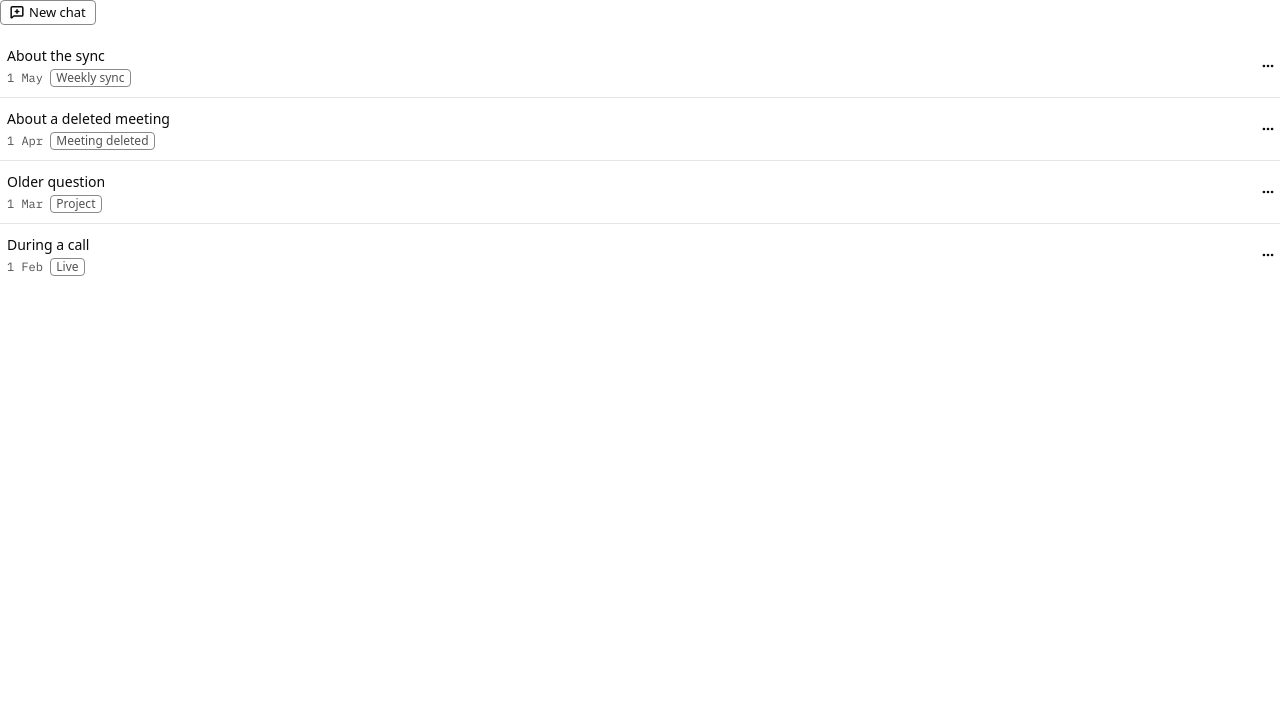
Test: ChatThreadList › says so when a chat could not be deleted, and keeps it listed
Click the button named "Actions for During a call" at coordinates (1268, 255), box [1256,243,1279,267]
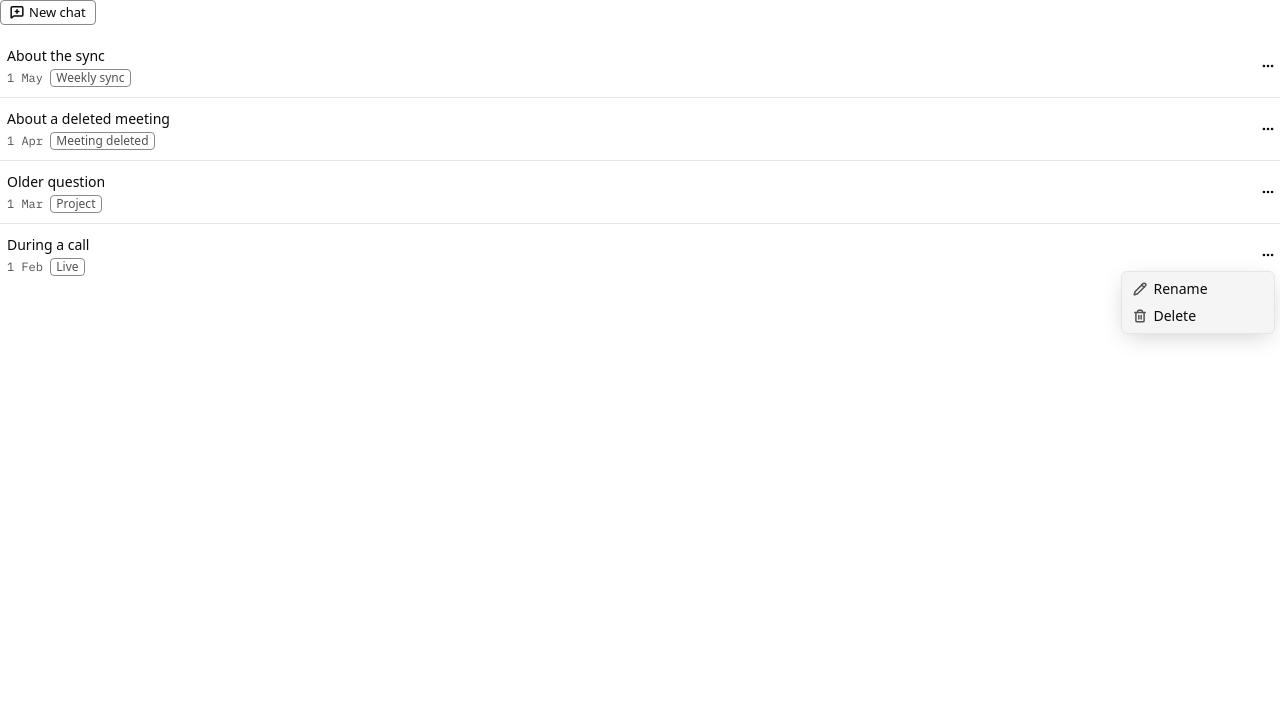
Click the menu item "Delete" at coordinates (1164, 316), box [1132,306,1196,325]
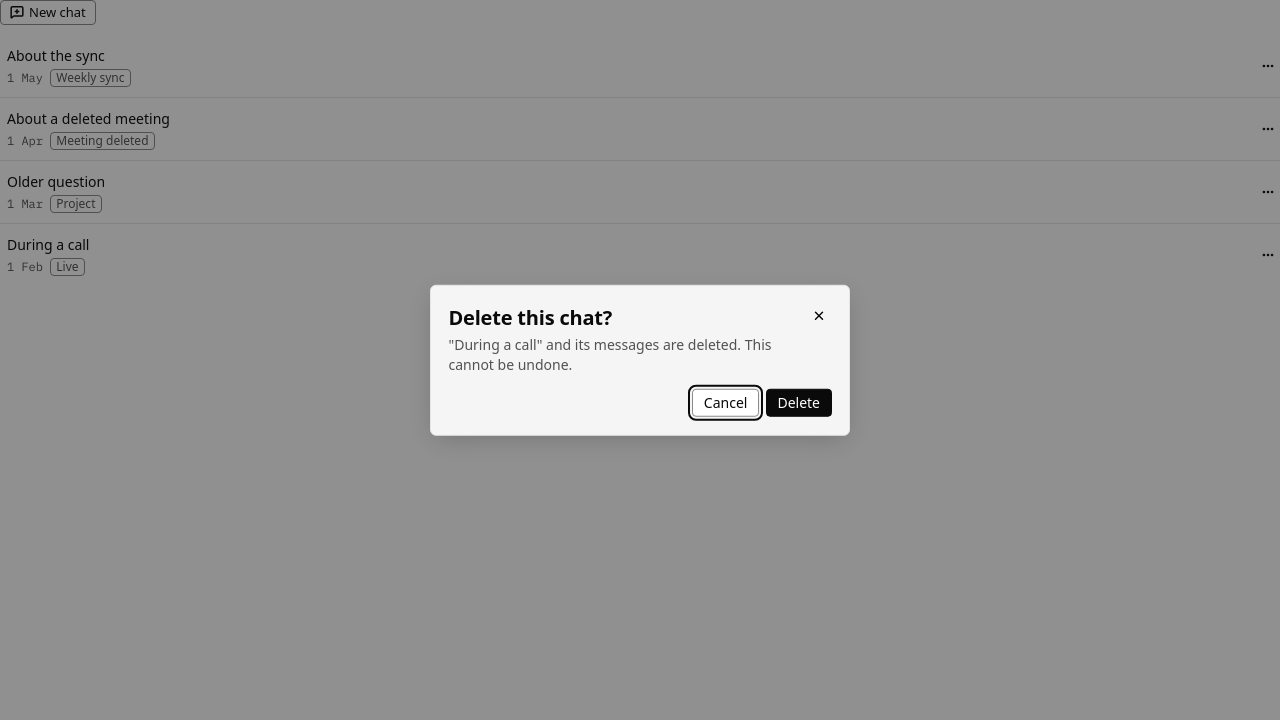
Click the button "Delete" at coordinates (799, 403), box [766,389,832,417]
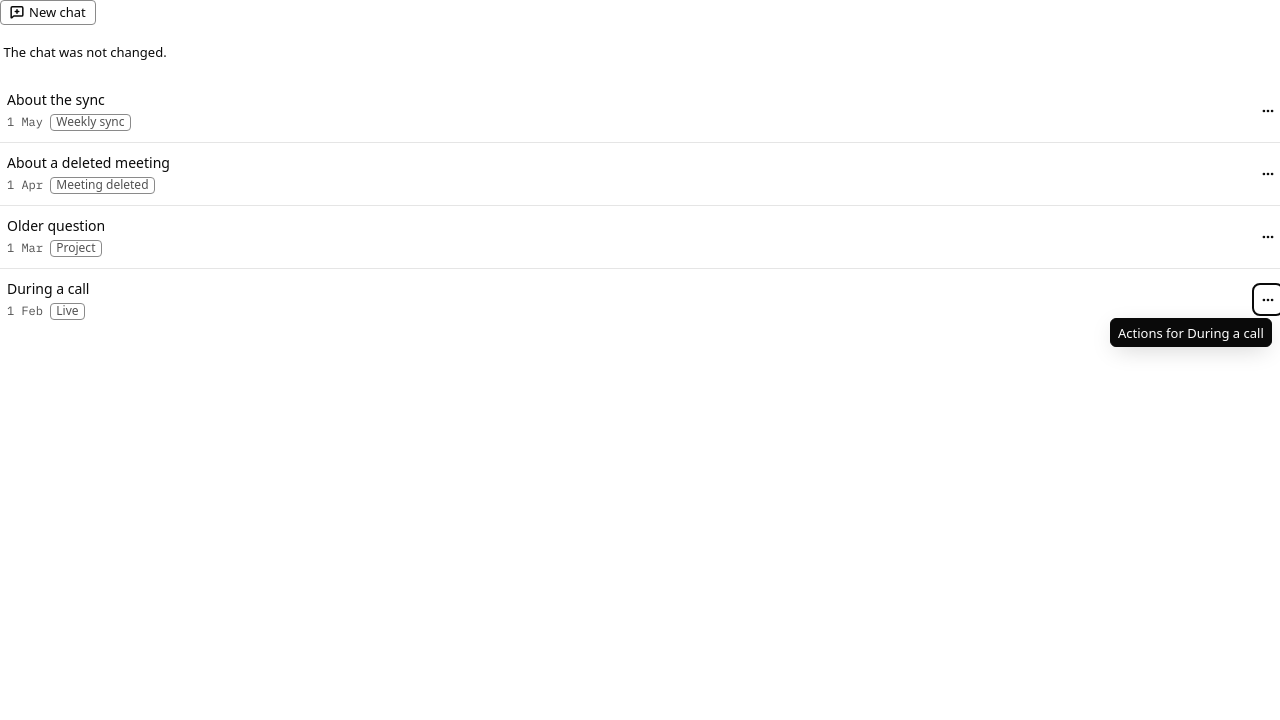
Expected: the text "During a call" is shown, [7,279,90,299]
Now the message reads "The chat was not changed.", box [4,43,167,61]
